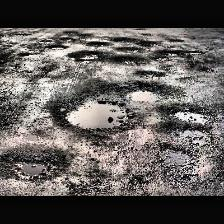pothole: (50, 84, 136, 134), (0, 146, 68, 182), (154, 143, 202, 185), (158, 123, 214, 145), (126, 82, 184, 102), (157, 105, 213, 125), (66, 50, 104, 62), (110, 55, 148, 67), (150, 48, 180, 62), (132, 70, 166, 78), (85, 40, 111, 48), (136, 40, 158, 48), (110, 37, 136, 43), (48, 44, 68, 50), (78, 33, 92, 37), (64, 30, 76, 34), (58, 38, 72, 40)
